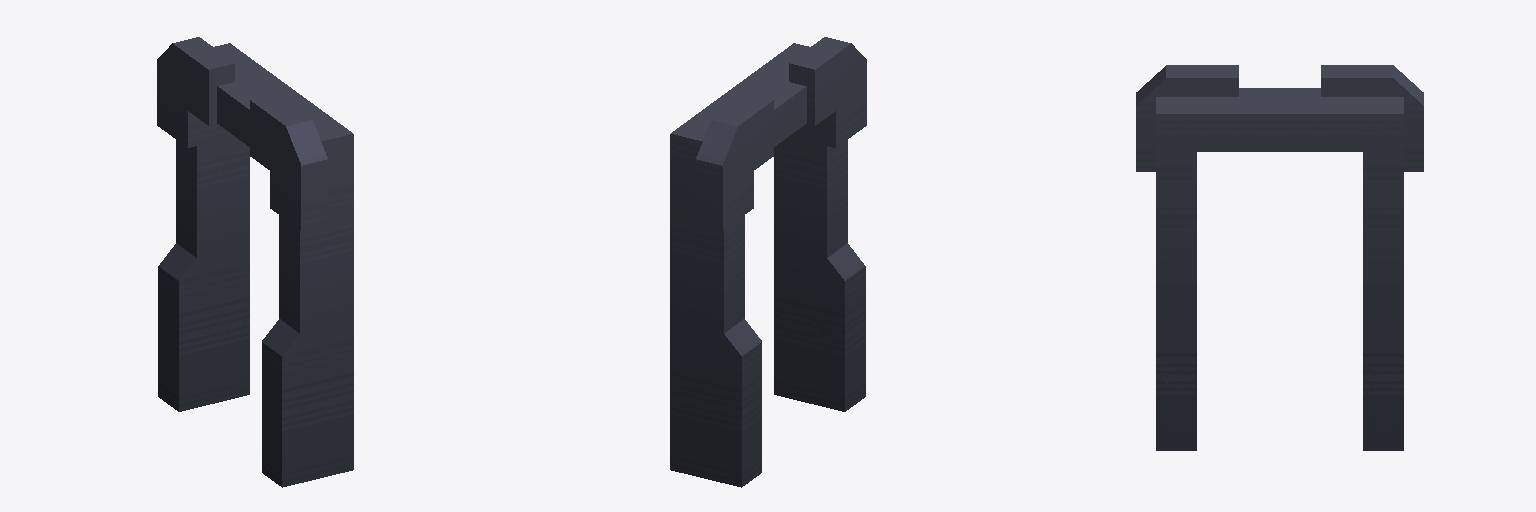
3 renders of one model, left to right at view 1: azimuth 30°, elevation 25°; view 2: azimuth 150°, elevation 25°; view 3: azimuth 270°, elevation 25°, orthographic.
Parts seen in each view (by area): view 1: crypt-small-entrance-alternative; view 2: crypt-small-entrance-alternative; view 3: crypt-small-entrance-alternative.
Boxes of the visible parts, x1=… form: crypt-small-entrance-alternative: x1=157, y1=37, x2=353, y2=487; crypt-small-entrance-alternative: x1=670, y1=37, x2=866, y2=487; crypt-small-entrance-alternative: x1=1136, y1=65, x2=1423, y2=450.
Size of the model in its own units: 0.49 by 2.33 by 1.72.
1 materials, 1 textured.